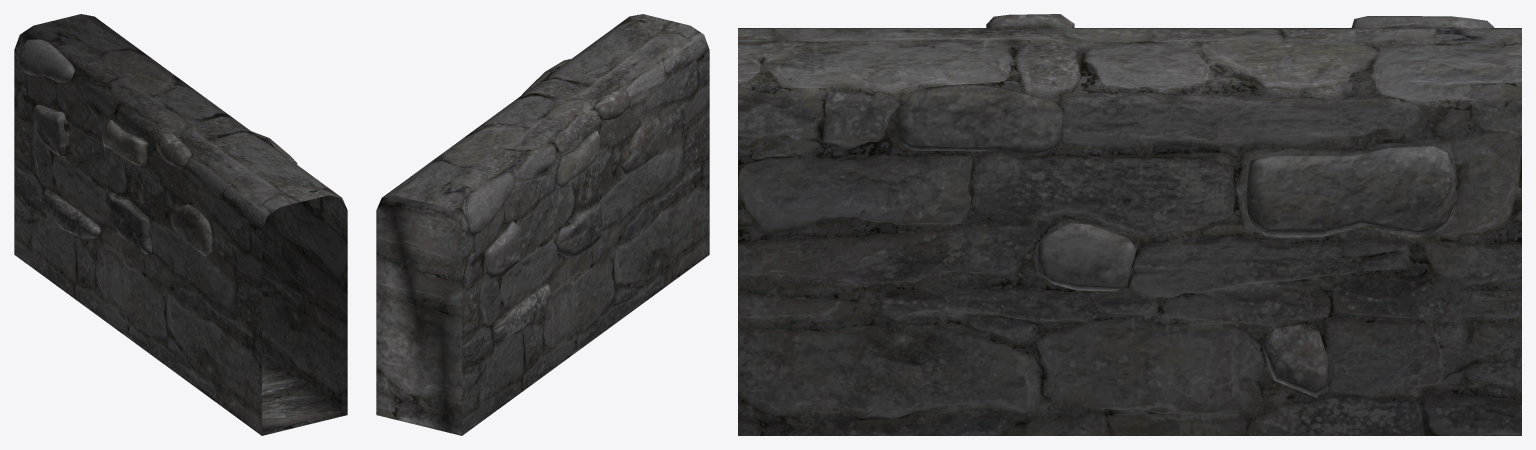
Rendered from SM_StoneWall.fbx.
3 renders of one model, left to right at view 1: azimuth 30°, elevation 25°; view 2: azimuth 150°, elevation 25°; view 3: azimuth 270°, elevation 25°, orthographic. The views are drawn at different scales.
Parts seen in each view (by area): view 1: SM_StoneWall_LOD0; view 2: SM_StoneWall_LOD0; view 3: SM_StoneWall_LOD0.
Boxes of the visible parts, x1,y1,x2,y2 form: SM_StoneWall_LOD0: (14, 14, 347, 435); SM_StoneWall_LOD0: (376, 14, 709, 435); SM_StoneWall_LOD0: (738, 14, 1521, 435).
Size of the model in its own units: 48.45 by 200 by 101.
